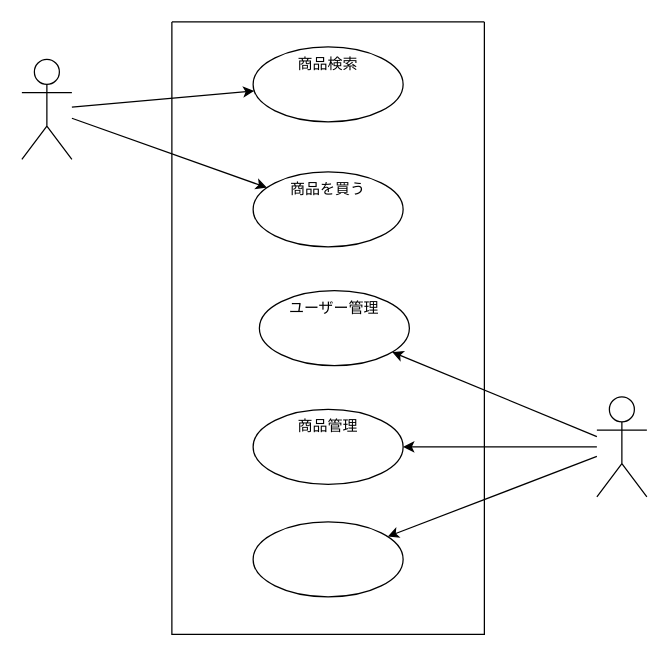
The diagram is 669 pixels wide and 656 high, and some of its shapes have lost their labels. Each missing label, with the centre of its shape:
"管理者" belongs at pixel 621 446.
"購入者" belongs at pixel 46 108.
